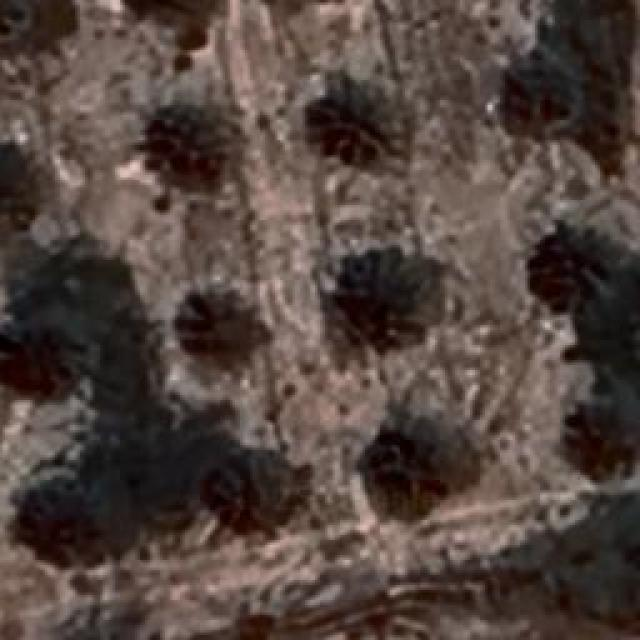PalmTree: (94, 83, 610, 562), (60, 112, 94, 518), (361, 418, 481, 512), (310, 62, 410, 160), (0, 302, 88, 412), (208, 446, 312, 536), (346, 256, 446, 344), (168, 282, 254, 366), (168, 108, 246, 196), (501, 52, 589, 126), (572, 370, 640, 465), (548, 232, 632, 306), (0, 140, 41, 227), (55, 606, 149, 640), (123, 0, 225, 27), (0, 0, 40, 48), (55, 619, 146, 640), (0, 0, 28, 47)
